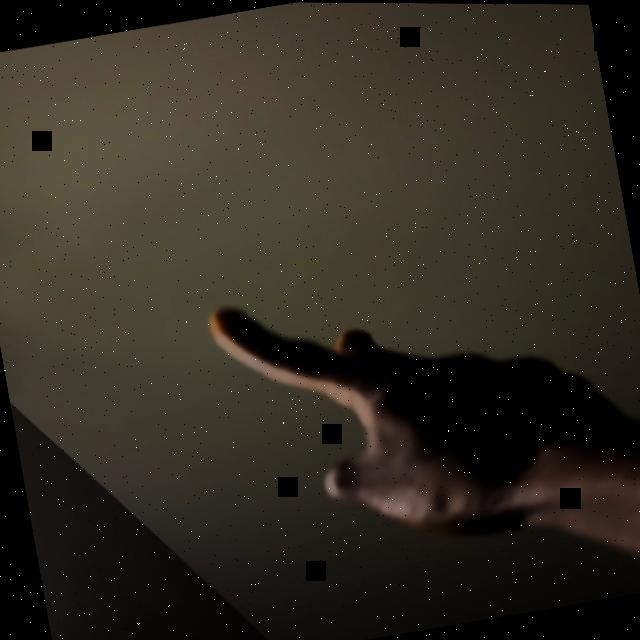Scissors: (207, 240, 640, 589)
